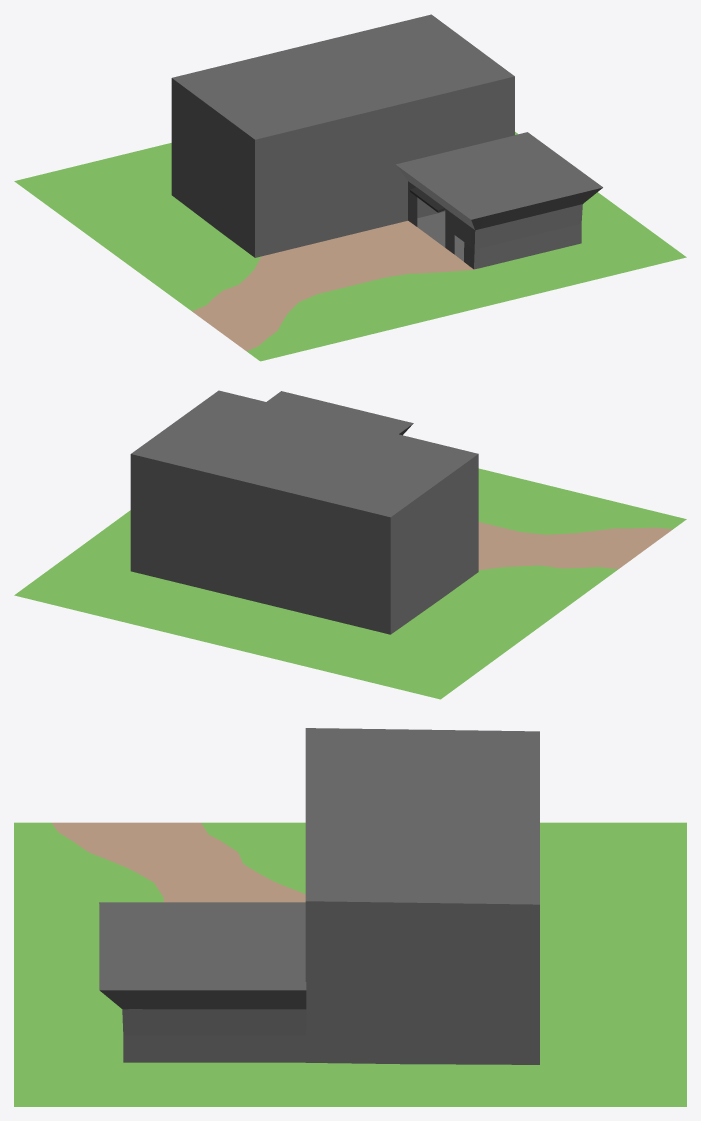
File: Basic_Building.fbx
3 views of the same model, one above another, from view 1: azimuth 30°, elevation 25°; view 2: azimuth 150°, elevation 25°; view 3: azimuth 270°, elevation 25° (orthographic). The views are drawn at different scales.
Parts seen in each view (by area): view 1: Plane; view 2: Plane; view 3: Plane.
Boxes of the visible parts, x1,y1,x2,y2 form: Plane: (14,14,686,361); Plane: (14,390,686,699); Plane: (14,728,686,1106).
Size of the model in its own units: 1510 by 404 by 1510.
